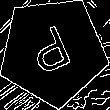P_SE: (27, 20, 80, 82)
